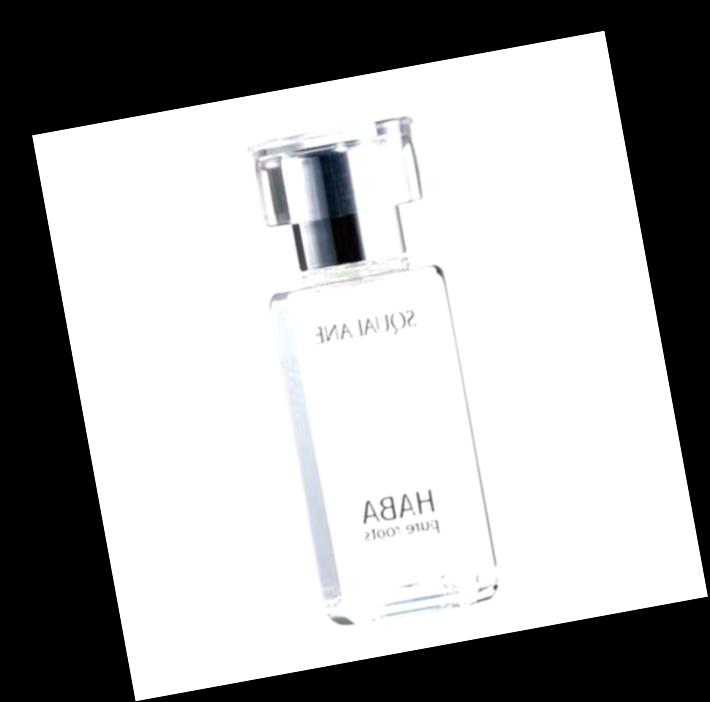cosmetic: (238, 111, 504, 629)
